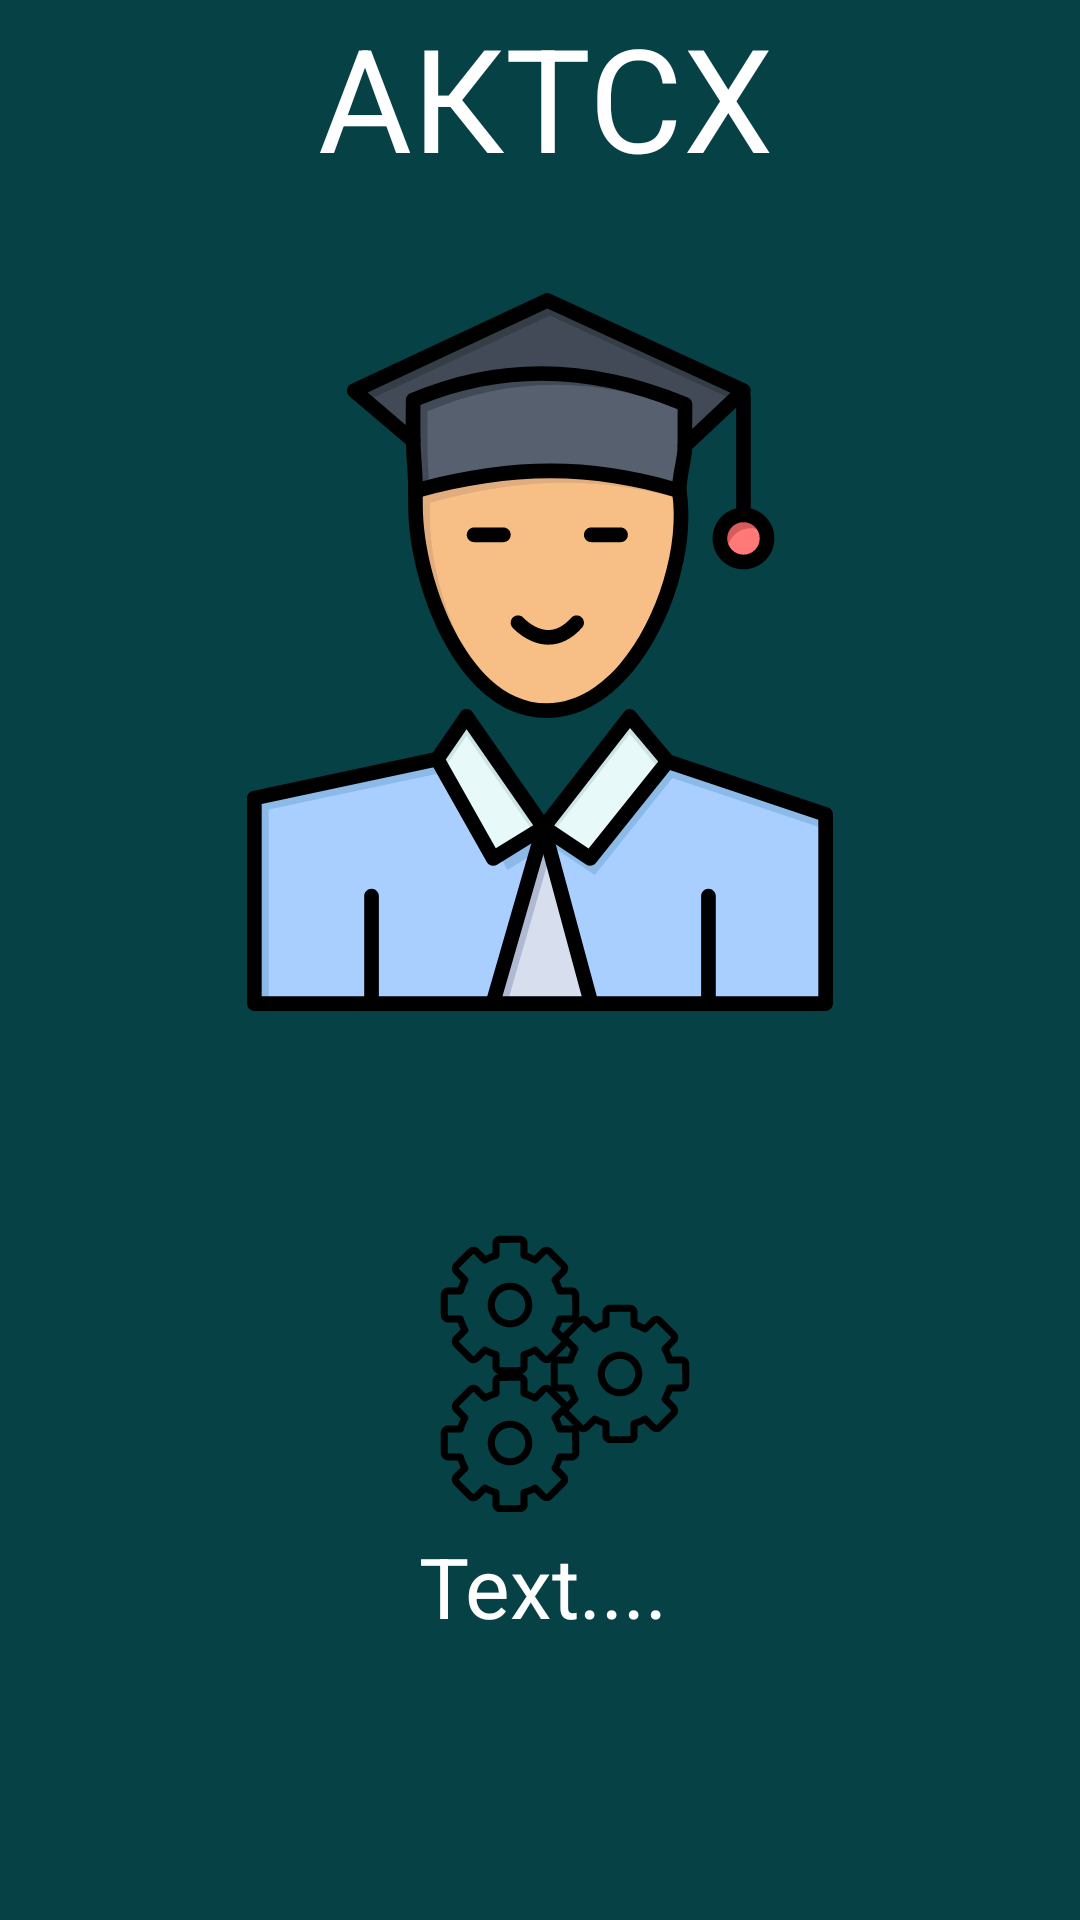

Icon click points for this 1080*1920 phone screenshot, format (x=x, y=y):
gear: (x=513, y=1308), (x=617, y=1374), (x=513, y=1440)
